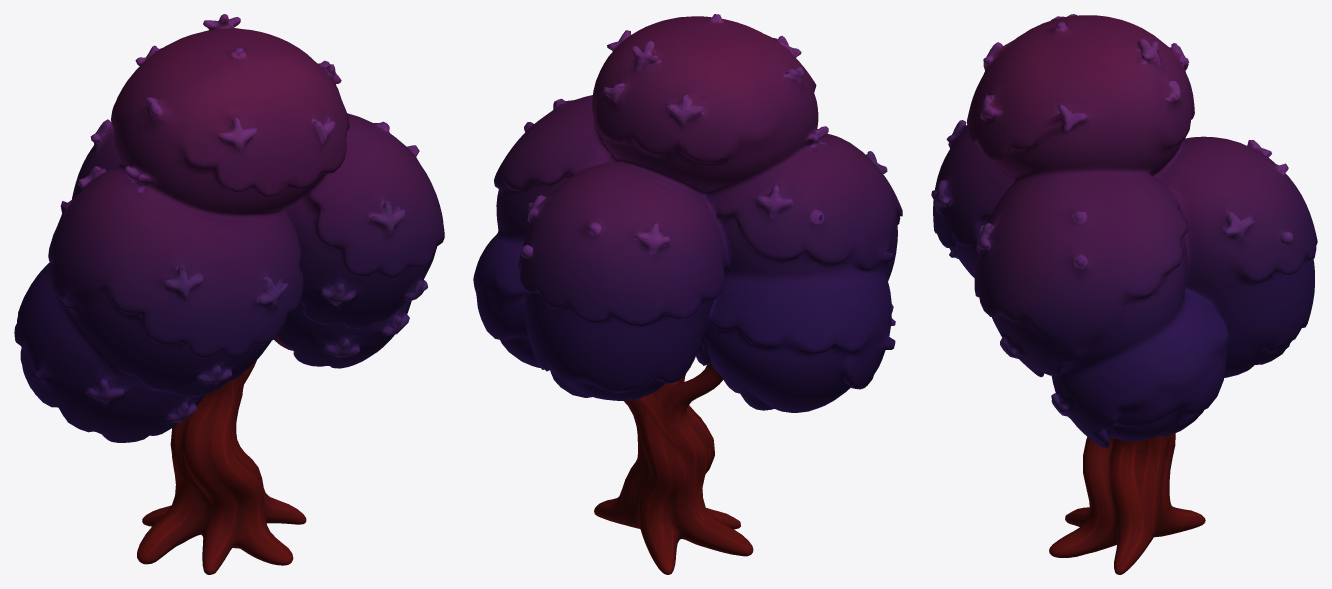
Rendered from tree1.fbx.
3 renders of one model, left to right at view 1: azimuth 30°, elevation 25°; view 2: azimuth 150°, elevation 25°; view 3: azimuth 270°, elevation 25°, orthographic. The views are drawn at different scales.
Parts seen in each view (by area): view 1: tree1_new; view 2: tree1_new; view 3: tree1_new.
Boxes of the visible parts, x1,y1,x2,y2 form: tree1_new: (14,14,444,574); tree1_new: (473,14,902,574); tree1_new: (931,14,1317,574).
Bounding box in the file's own units: 91.19 × 115 × 78.73.
Materials: 1 (1 with a texture image).
